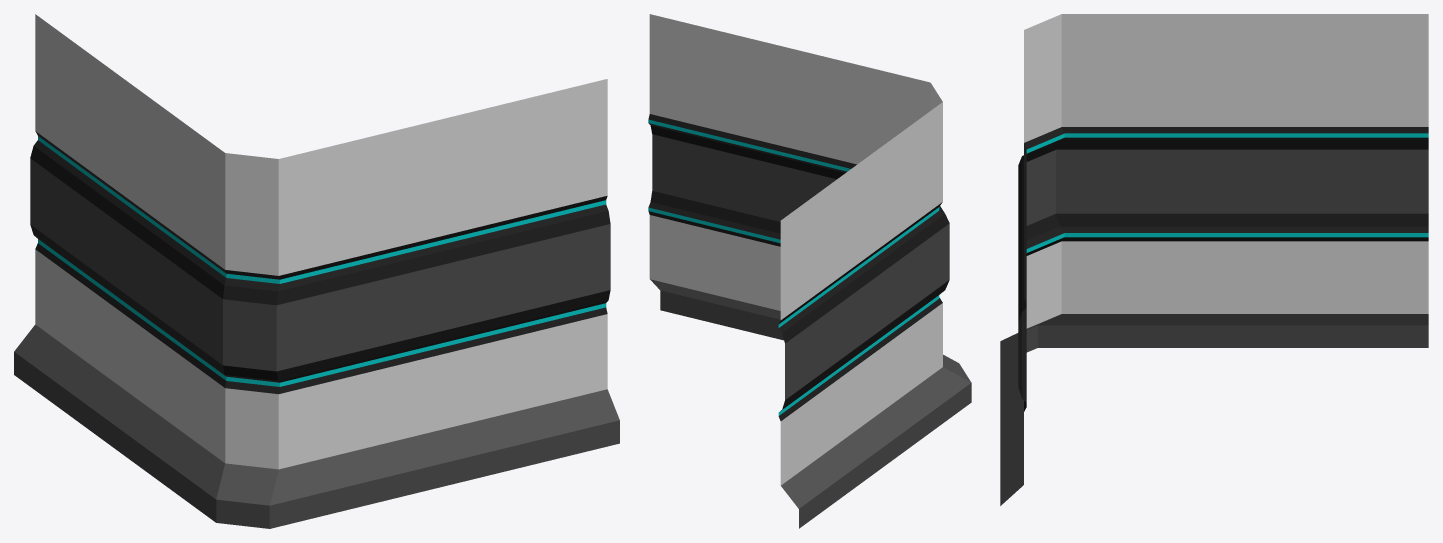
Rendered from base_wall_corner_01.FBX.
3 views of the same model, side by side, from view 1: azimuth 30°, elevation 25°; view 2: azimuth 150°, elevation 25°; view 3: azimuth 270°, elevation 25° (orthographic). The views are drawn at different scales.
Parts seen in each view (by area): view 1: base_wall_corner_01; view 2: base_wall_corner_01; view 3: base_wall_corner_01.
Boxes of the visible parts, <box> form: base_wall_corner_01: <box>14,14,619,528</box>; base_wall_corner_01: <box>648,14,971,528</box>; base_wall_corner_01: <box>1000,14,1428,505</box>.
Bounding box in the file's own units: 452 × 400 × 452.
